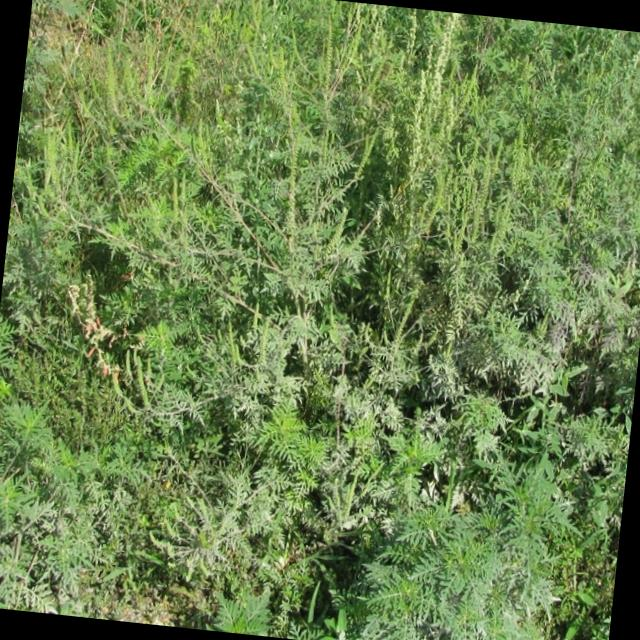ambrosia: (358, 62, 540, 368), (204, 126, 371, 367), (366, 444, 571, 640), (0, 391, 120, 574)
